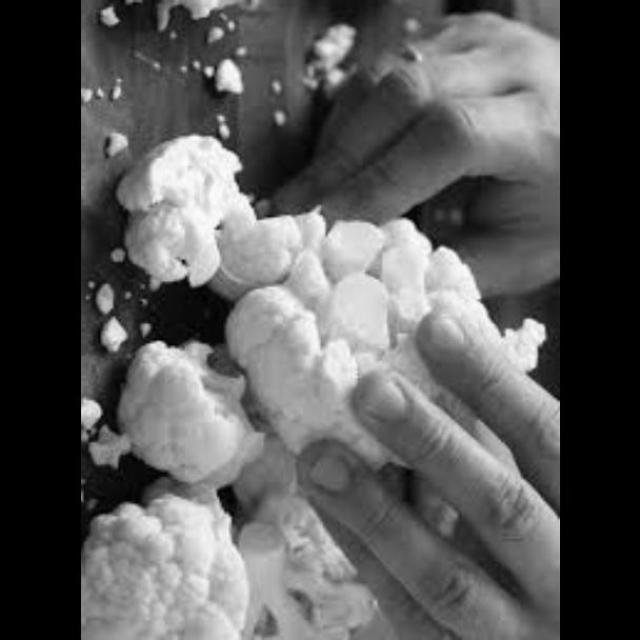sup lo: (81, 120, 523, 640)
